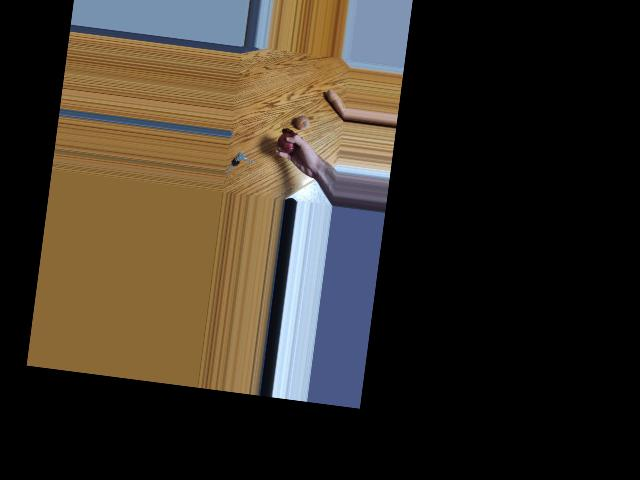onion: (293, 113, 314, 136)
